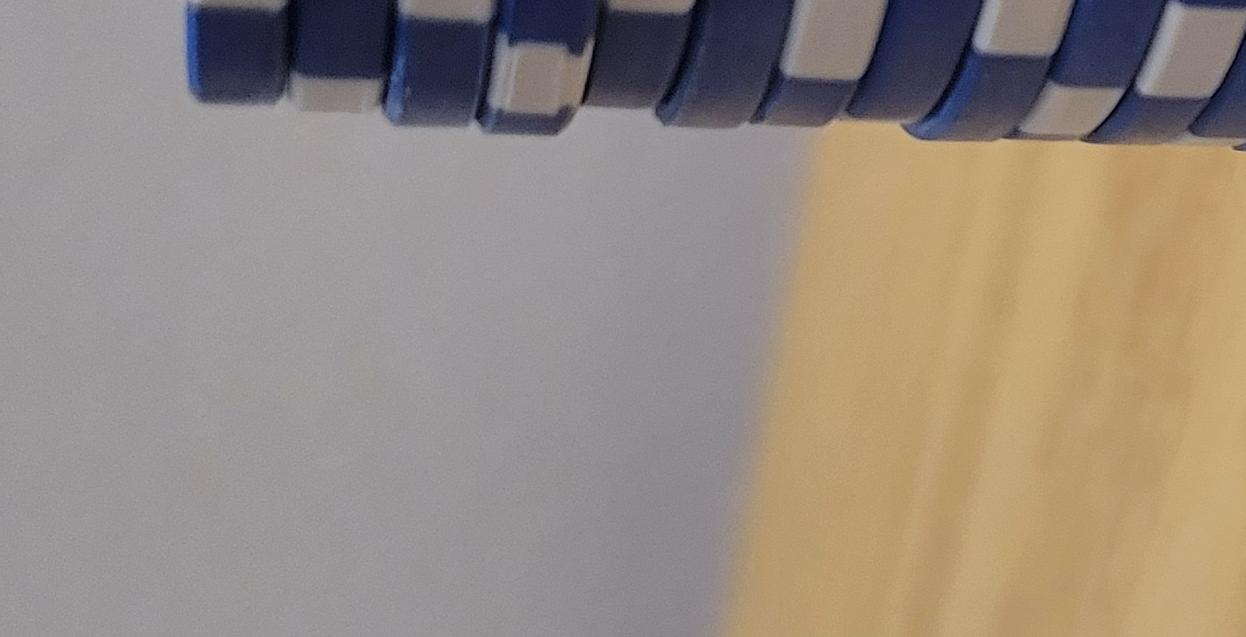Chip: (1, 400, 830, 637)
